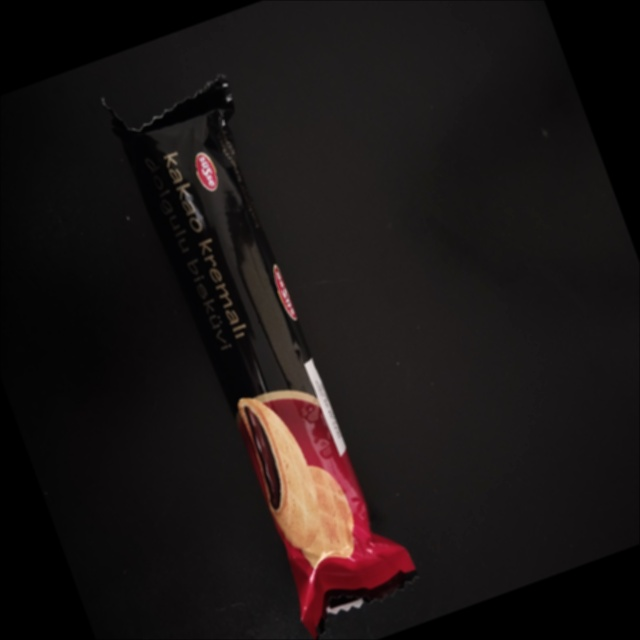susse_biskuvi: (111, 76, 414, 636)
